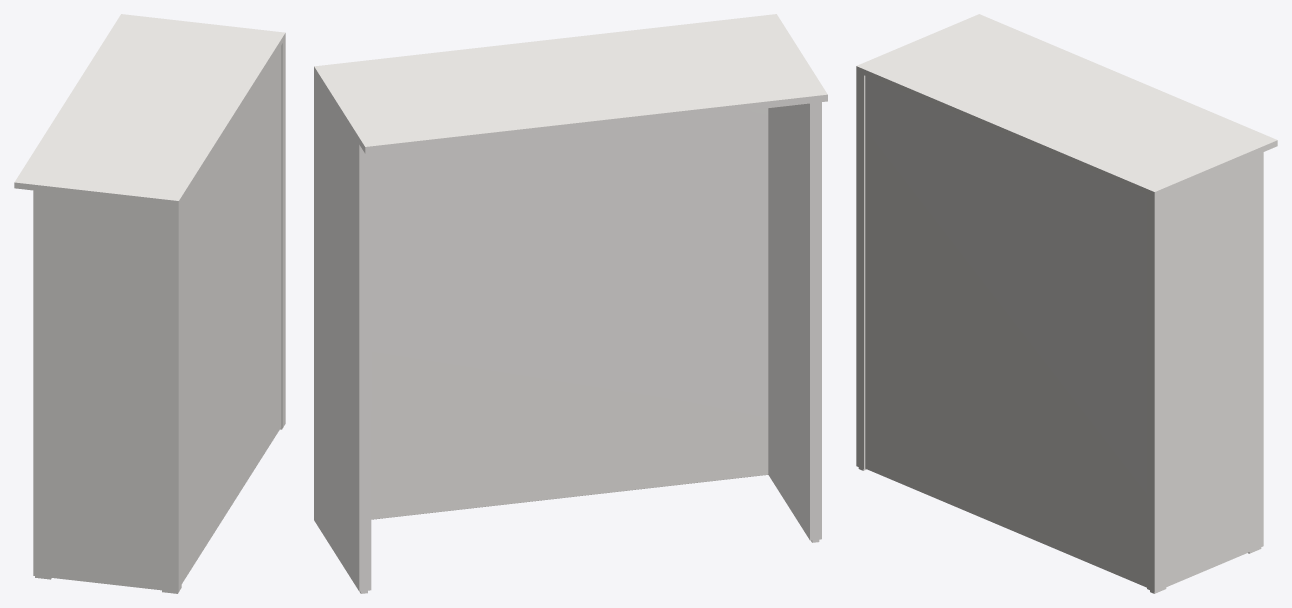
Rendered from tvtable_0101_body.glb.
3 views of the same model, side by side, from view 1: azimuth 30°, elevation 25°; view 2: azimuth 150°, elevation 25°; view 3: azimuth 270°, elevation 25° (orthographic). The views are drawn at different scales.
Visible parts, largest first — view 1: tvtable_0101_body; view 2: tvtable_0101_body; view 3: tvtable_0101_body.
Part boxes in pixels (box(x1,y1,x2,y2)): tvtable_0101_body: box(14, 14, 285, 593); tvtable_0101_body: box(314, 14, 827, 593); tvtable_0101_body: box(856, 14, 1277, 593).
Bounding box in the file's own units: 0.7989 × 0.8424 × 0.7989.
1 material, 1 textured.
